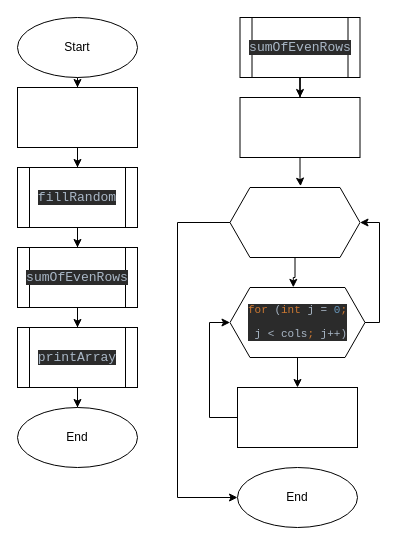
Image size: 405x545. Some labels were removed from this diagram. The centre of each missing label's shape, as x and y in pixels:
const int rows = 4 ; const int cols = 4 ; int myArray[rows][cols] ;: (x=77, y=117)
for ( int i = 1 ; i < rows ; i += 2 ): (x=294, y=222)
int sum = 0 ;: (x=299, y=127)
sum += arr[i][j] ;: (x=297, y=417)
